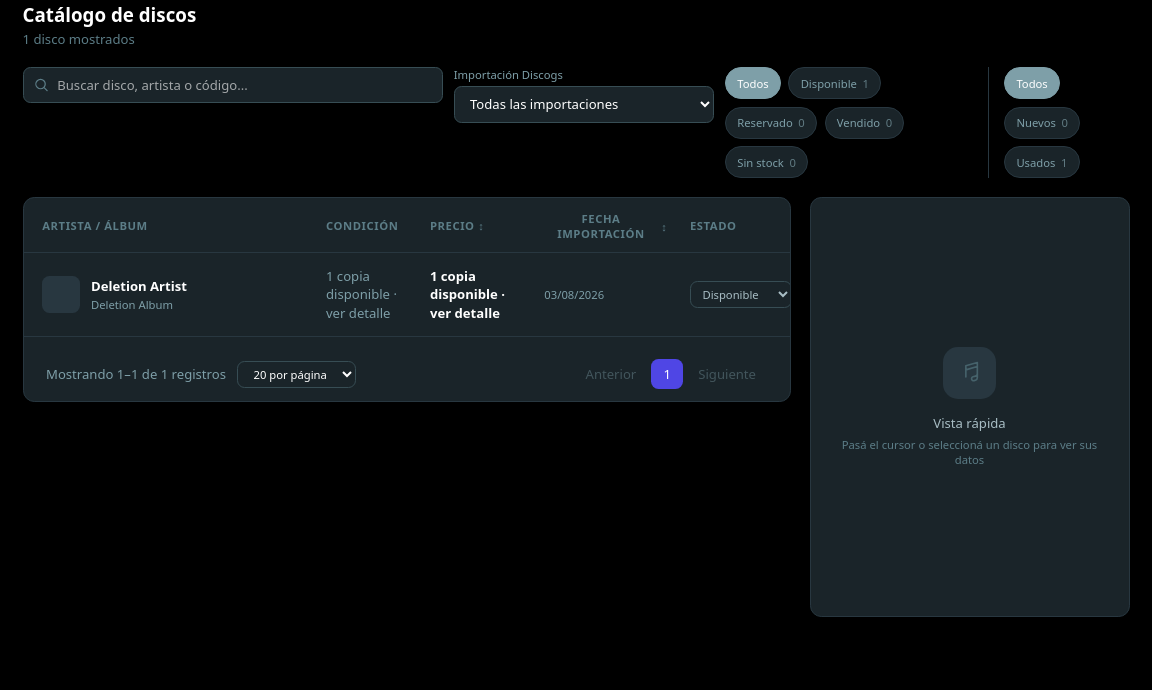
Test case: Catalog permanent deletion flow › shows physical condition separately from the used category
Click the text "Deletion Artist" at x=544, y=294, box x1=24 y1=253 x2=1064 y2=336
(page scrolled)
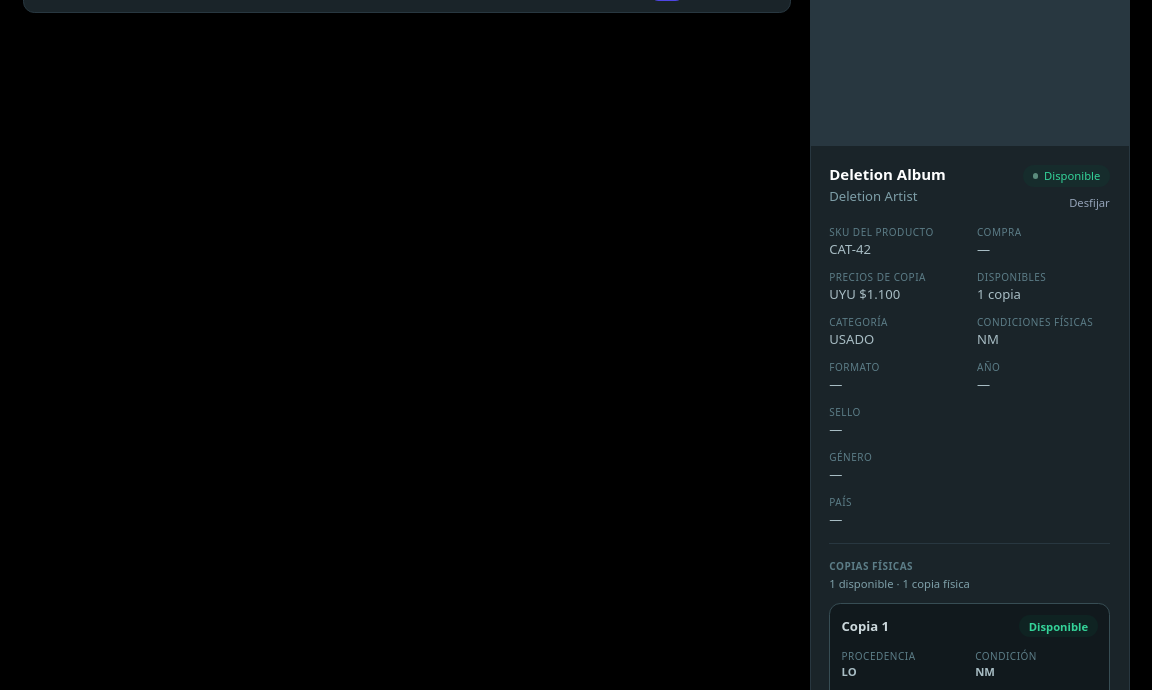
Expected: the text "Categoría" is shown, x1=829 y1=315 x2=888 y2=329
Expected: the text "USADO" is shown, x1=829 y1=330 x2=874 y2=348
